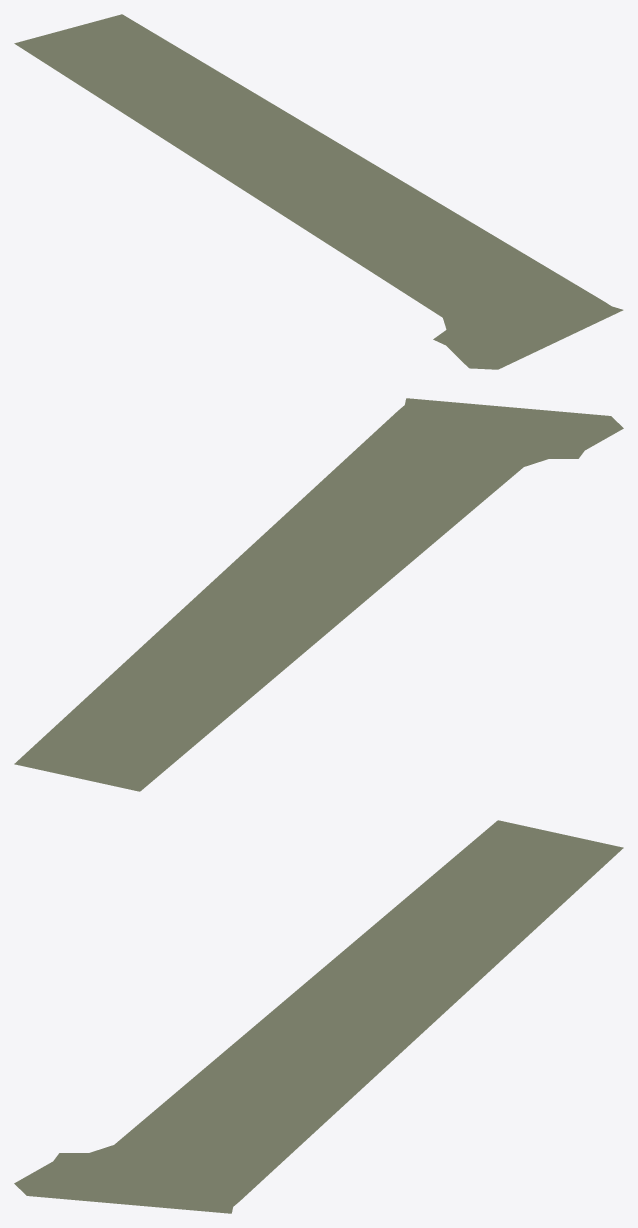
The model's file is cell--450_-225.glb.
3 renders of one model, top to bottom at view 1: azimuth 30°, elevation 25°; view 2: azimuth 150°, elevation 25°; view 3: azimuth 330°, elevation 25°, orthographic. The views are drawn at different scales.
Parts seen in each view (by area): view 1: cell--450_-225; view 2: cell--450_-225; view 3: cell--450_-225.
Part boxes in pixels (x1,y1,x2,y2): cell--450_-225: [14, 14, 623, 369]; cell--450_-225: [14, 398, 623, 791]; cell--450_-225: [14, 820, 623, 1213].
Bounding box in the file's own units: 33.65 × 0 × 145.
